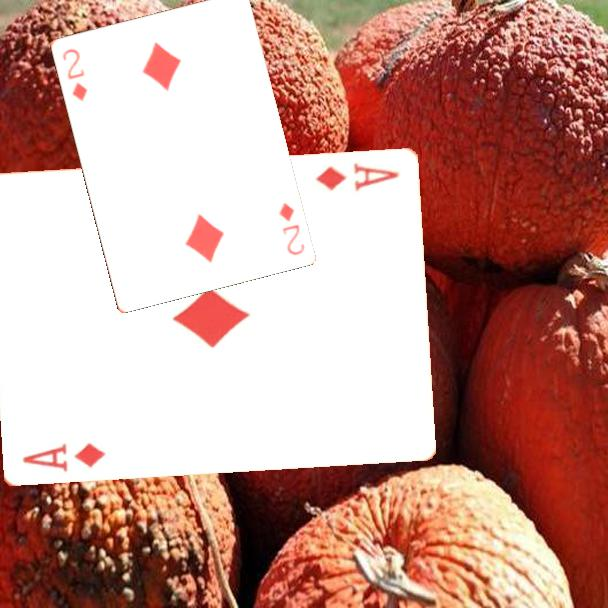d01: (18, 440, 108, 475), (312, 160, 402, 195)
d02: (275, 198, 307, 258), (58, 45, 90, 104)
